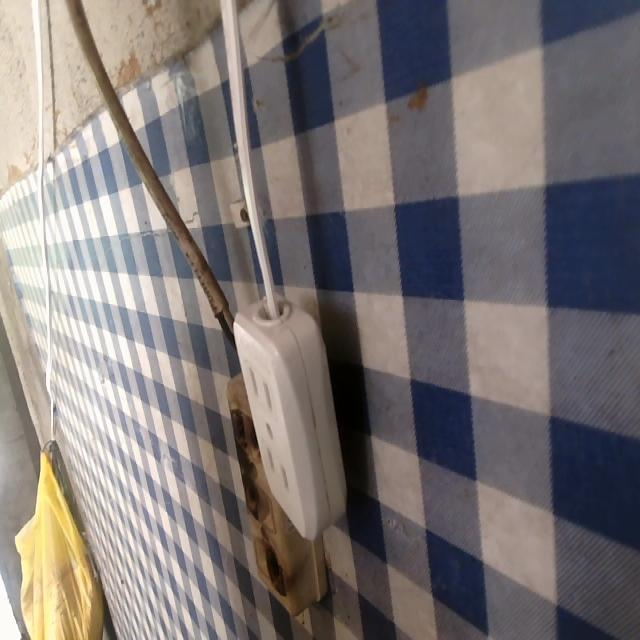-: (259, 529, 292, 604), (225, 402, 263, 458)
